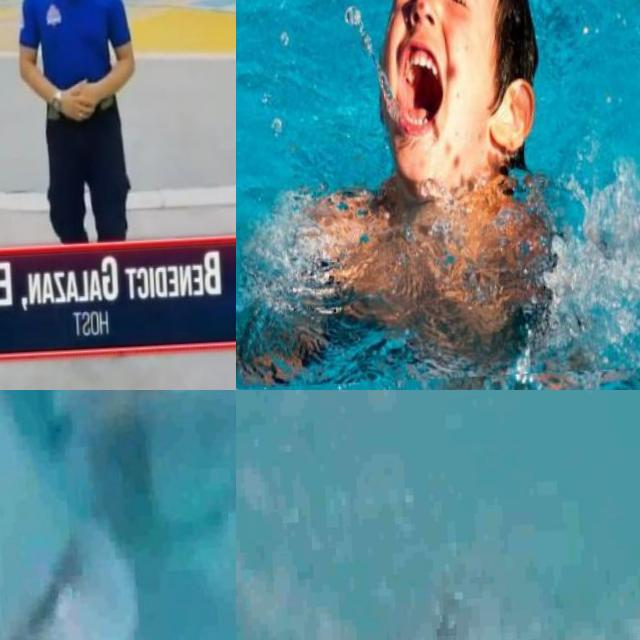drowning: (236, 0, 640, 390), (0, 513, 82, 640), (372, 582, 530, 640)
out of water: (0, 0, 160, 248)
swimming: (63, 390, 197, 444)
